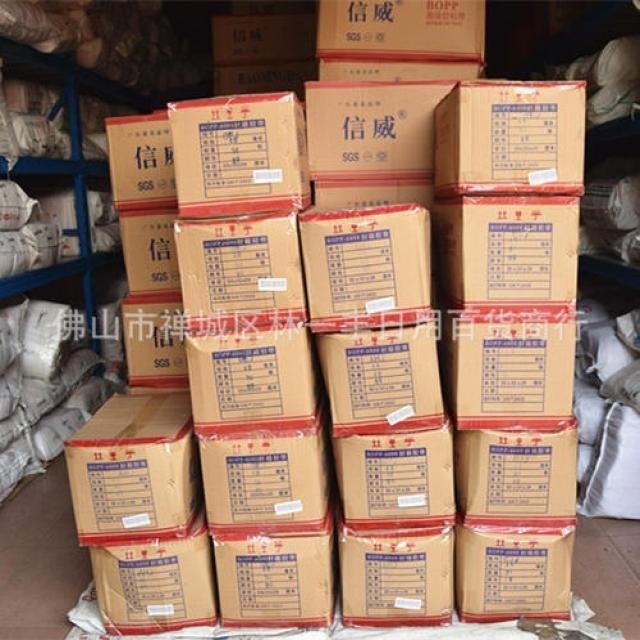box: (65, 390, 202, 547), (197, 402, 337, 533), (168, 91, 312, 218), (431, 81, 586, 198), (298, 202, 434, 332), (435, 194, 581, 313), (439, 304, 577, 429), (90, 504, 218, 636), (174, 210, 307, 331), (212, 504, 339, 628), (314, 321, 445, 439), (183, 322, 320, 433), (306, 80, 458, 180), (333, 421, 457, 529), (456, 516, 576, 623), (339, 518, 456, 627), (456, 425, 579, 523), (316, 0, 485, 64), (105, 112, 177, 211), (122, 297, 187, 388), (118, 209, 180, 297), (214, 13, 319, 64), (312, 176, 435, 210)
